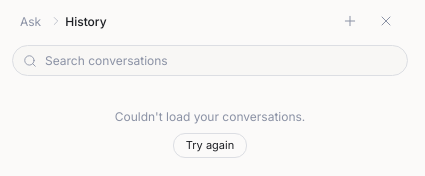
Test case: History › says so when there is nothing, and when the list fails, with Try again
Expected: the element with test id "history-error" shows "Couldn't load your conversations.", [115,109,305,124]
Click the button "Try again" at [210, 146], box [173,133,247,158]
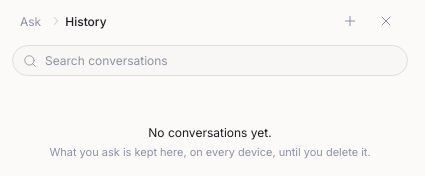
Expected: the element with test id "history-empty" shows "No conversations yet.", [148,125,272,140]
Expected: the element with test id "history-empty" shows "What you ask is kept here, on every device, until you delete it.", [49,145,371,159]
